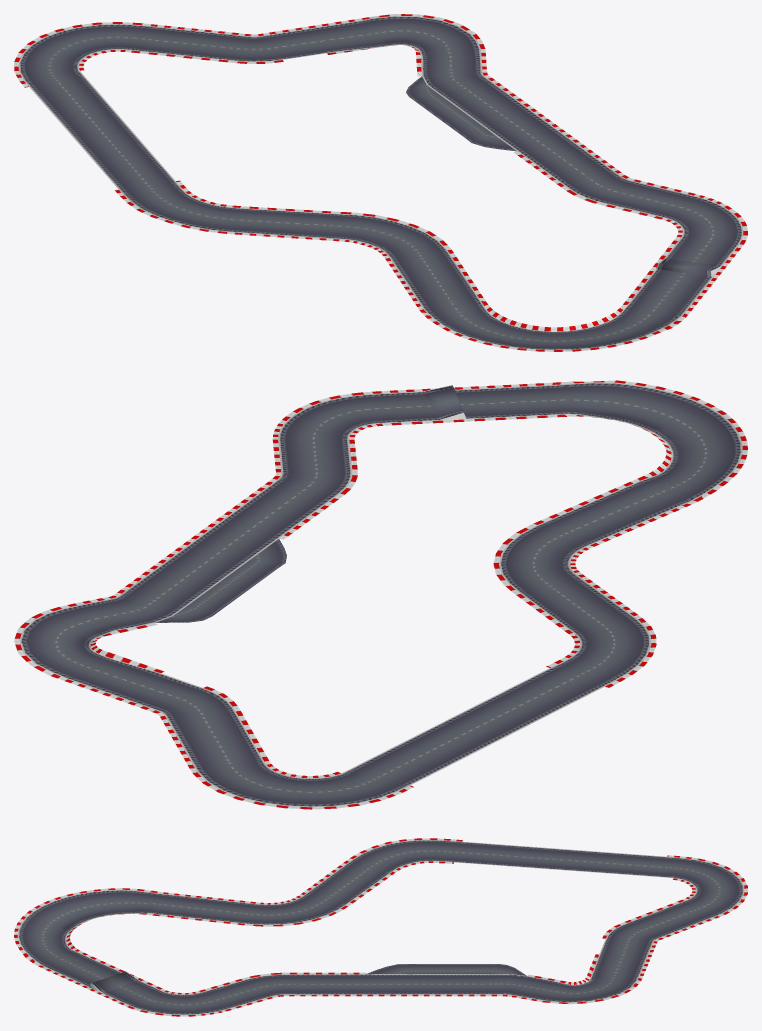
File: track.fbx
3 renders of one model, top to bottom at view 1: azimuth 30°, elevation 25°; view 2: azimuth 150°, elevation 25°; view 3: azimuth 270°, elevation 25°, orthographic. The views are drawn at different scales.
Parts seen in each view (by area): view 1: speedway_road; view 2: speedway_road; view 3: speedway_road.
Part boxes in pixels (x1,y1,x2,y2): speedway_road: [14, 14, 747, 351]; speedway_road: [14, 380, 747, 809]; speedway_road: [14, 838, 747, 1016].
Bounding box in the file's own units: 3822 × 137 × 6722.
Materials: 2 (2 with a texture image).
